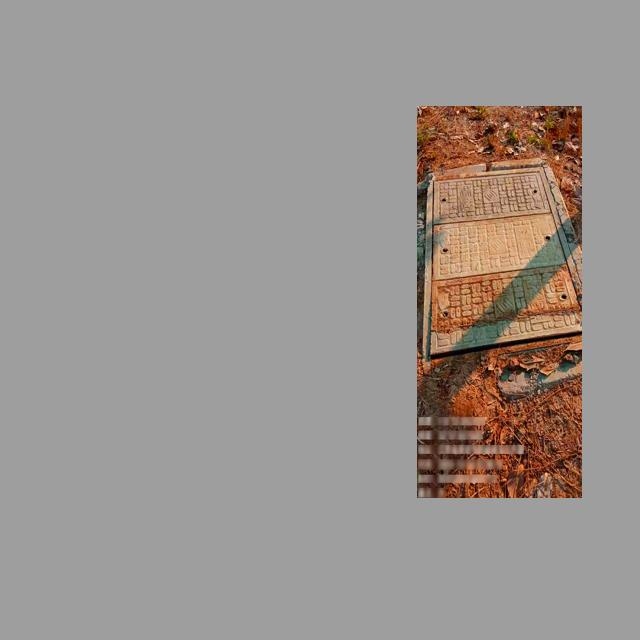circle: (419, 159, 582, 366)
